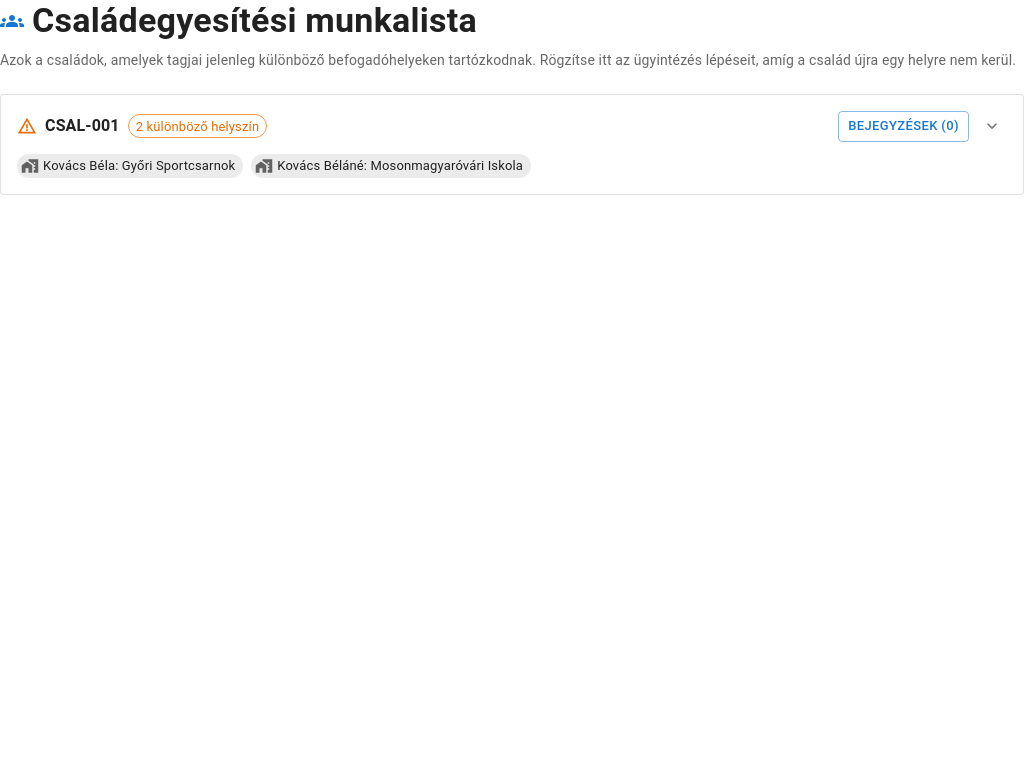
FamilyReunificationPage › a bejegyzések párbeszédablakban új ügyintézési bejegyzés rögzíthető, ami frissíti a listát
This screenshot has width=1024, height=768.
Expected: the text "CSAL-001" is shown, [45,114,120,138]
Click the button "Bejegyzések (0)" at (904,126), box [838,111,969,142]
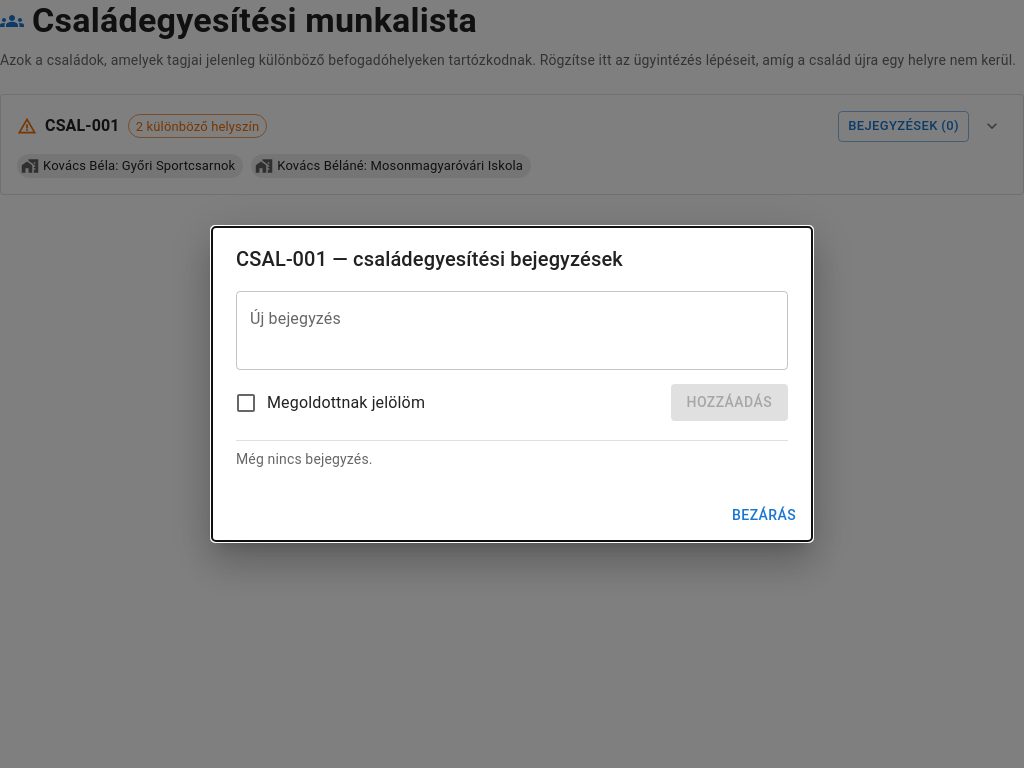
Expected: the heading "CSAL-001 — családegyesítési bejegyzések" is shown, [236,247,623,271]
Type "Átszállítás szervezés alatt." into the text box labelled "Új bejegyzés" at (512,330), box [250,307,774,353]
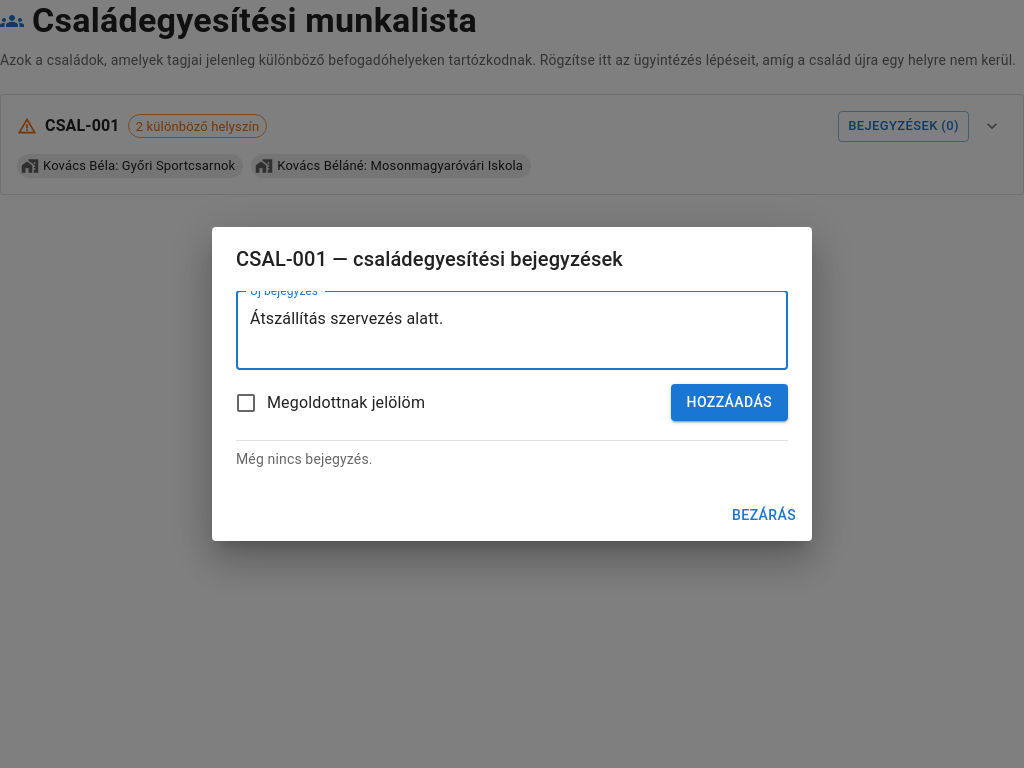
Click the button "Hozzáadás" at (729,403), box [671,384,788,421]
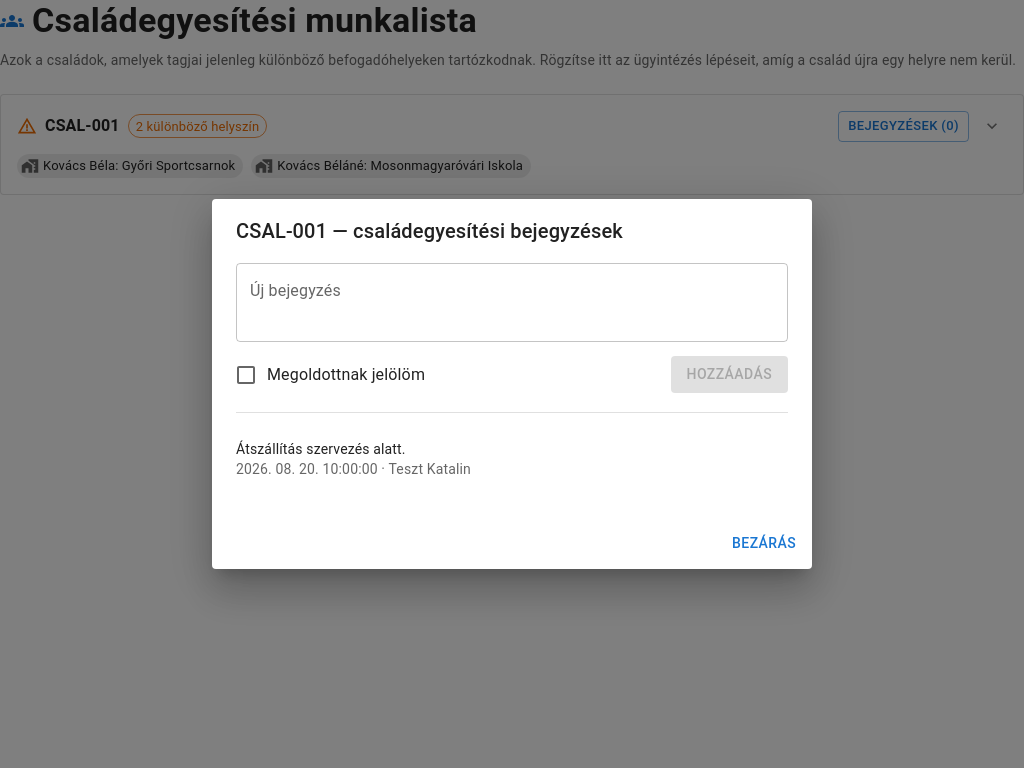
Expected: the text "Átszállítás szervezés alatt." is shown, [236,441,406,457]
